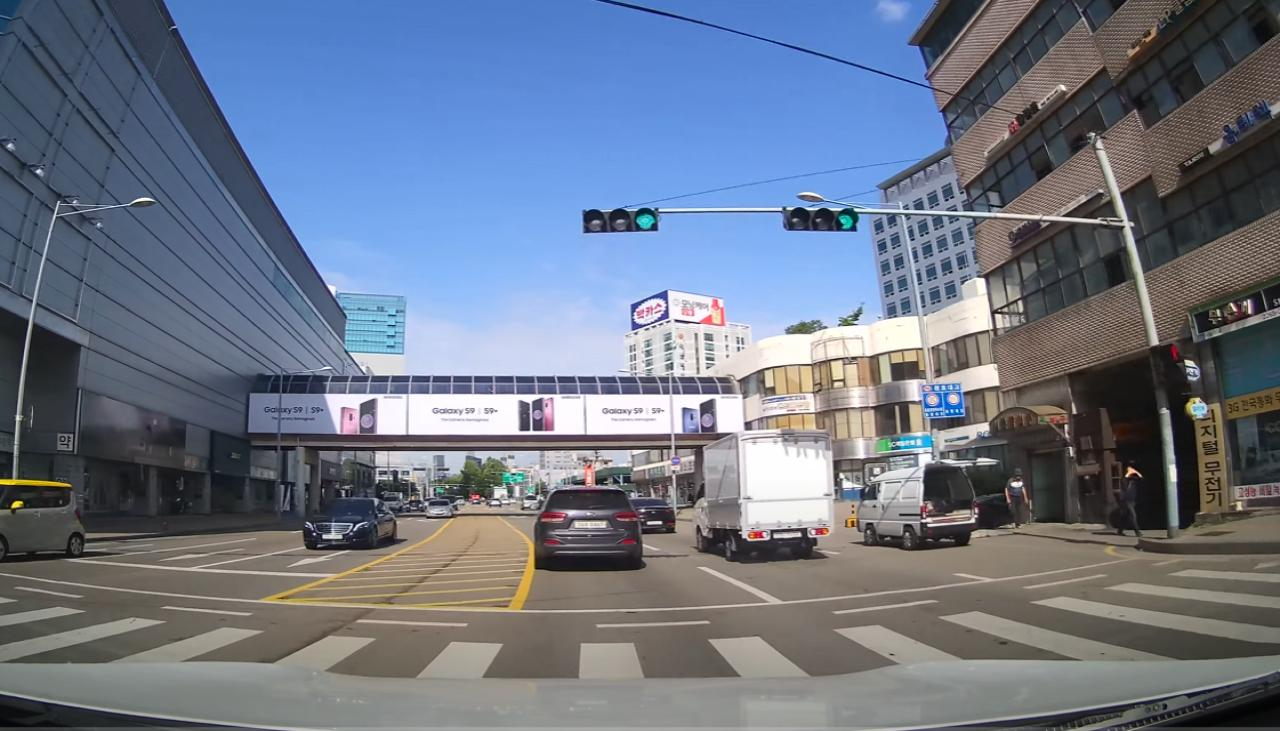Green Light: (634, 209, 657, 231), (834, 208, 857, 230)
